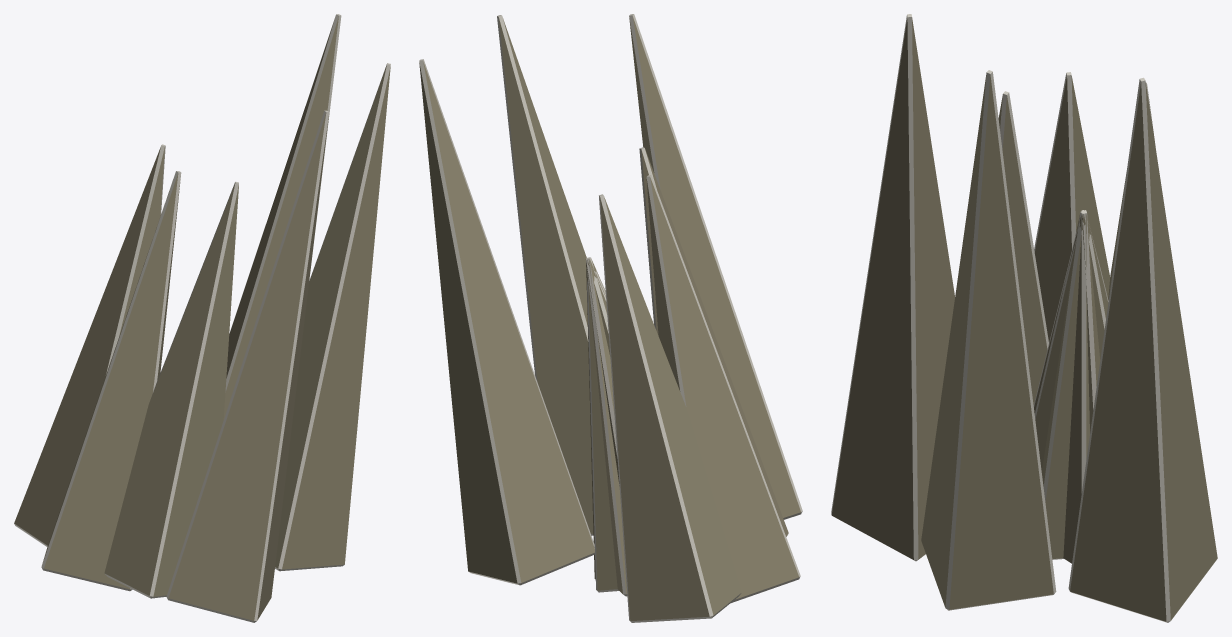
The model's file is foliage_grass_dry.glb.
3 views of the same model, side by side, from view 1: azimuth 30°, elevation 25°; view 2: azimuth 150°, elevation 25°; view 3: azimuth 270°, elevation 25° (orthographic). The views are drawn at different scales.
Parts seen in each view (by area): view 1: scenery_dry; view 2: scenery_dry; view 3: scenery_dry.
Boxes of the visible parts, left/top/right/bottom form: scenery_dry: left=14, top=14, right=390, bottom=622; scenery_dry: left=419, top=14, right=802, bottom=622; scenery_dry: left=831, top=14, right=1217, bottom=622.
Size of the model in its own units: 0.7028 by 0.9655 by 0.58.
